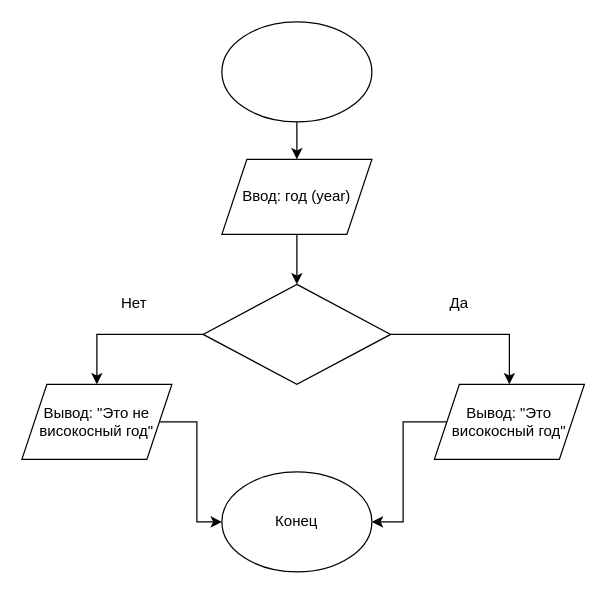
Some shapes in this 606 by 594 pixel diagram are drawn without their labels. Here are the shapes that lost their labels. From the top down, the centre of each, then its label:
At (296,71): "Начало".
At (296,333): "Проверка: year % 4 = 0".
